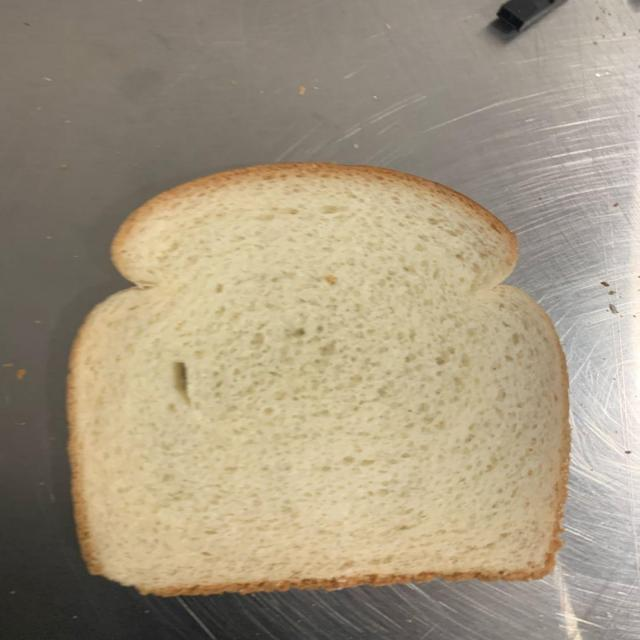sliced_bread: (66, 164, 572, 595)
